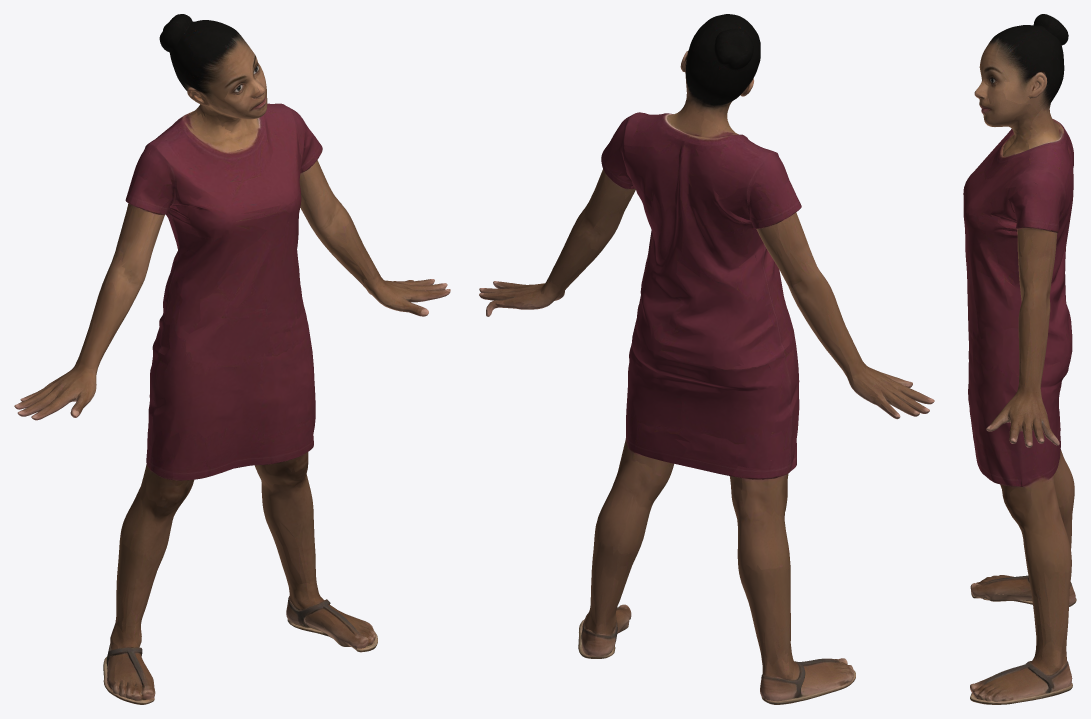
The model's file is npc-vizinha-boca.glb.
3 views of the same model, side by side, from view 1: azimuth 30°, elevation 25°; view 2: azimuth 150°, elevation 25°; view 3: azimuth 270°, elevation 25° (orthographic). The views are drawn at different scales.
Parts seen in each view (by area): view 1: output_unwrapped; view 2: output_unwrapped; view 3: output_unwrapped.
Boxes of the visible parts, x1,y1,x2,y2 form: output_unwrapped: (14,14,450,704); output_unwrapped: (479,14,934,704); output_unwrapped: (963,14,1076,704).
Bounding box in the file's own units: 1.35 × 1.9 × 0.3174.
1 material, 1 textured.
